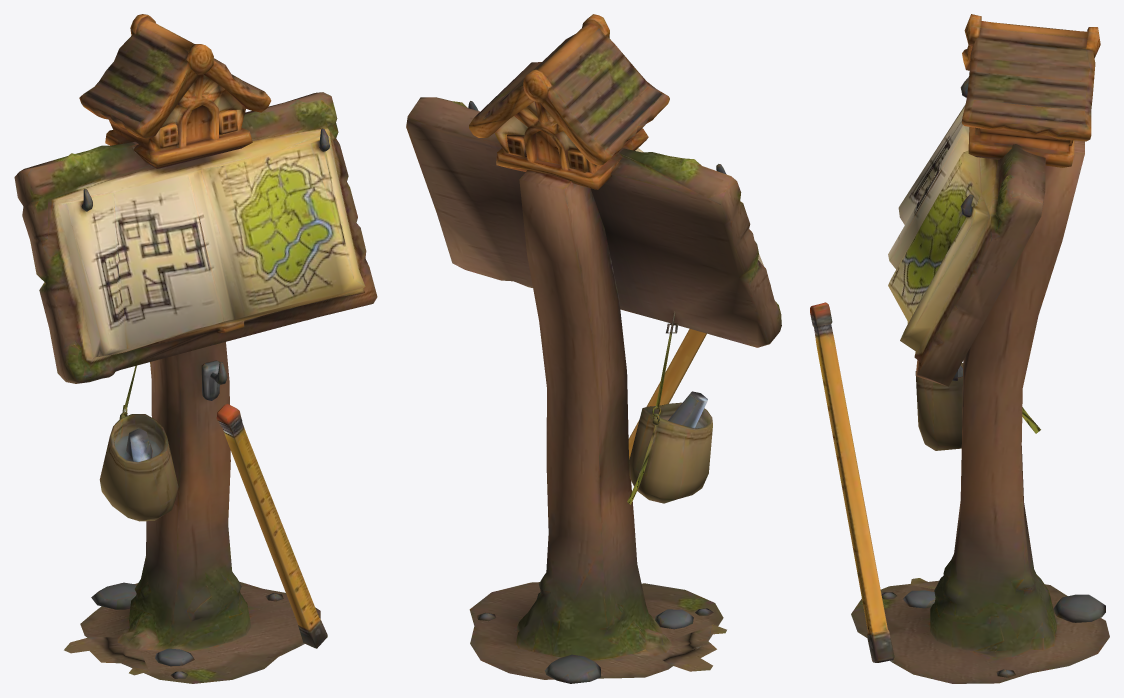
The model's file is wyn_quest_housing_noticeboard.glb.
3 views of the same model, side by side, from view 1: azimuth 30°, elevation 25°; view 2: azimuth 150°, elevation 25°; view 3: azimuth 270°, elevation 25° (orthographic). The views are drawn at different scales.
Visible parts, largest first — view 1: tripo_node_4d3636af-ac10-480a-85b0-2fca062b4fc2; view 2: tripo_node_4d3636af-ac10-480a-85b0-2fca062b4fc2; view 3: tripo_node_4d3636af-ac10-480a-85b0-2fca062b4fc2.
Part boxes in pixels (x1=…): tripo_node_4d3636af-ac10-480a-85b0-2fca062b4fc2: x1=14, y1=14, x2=377, y2=683; tripo_node_4d3636af-ac10-480a-85b0-2fca062b4fc2: x1=406, y1=14, x2=781, y2=683; tripo_node_4d3636af-ac10-480a-85b0-2fca062b4fc2: x1=810, y1=14, x2=1109, y2=683.
Size of the model in its own units: 1.31 by 2.4 by 1.07.
Materials: 1 (1 with a texture image).
